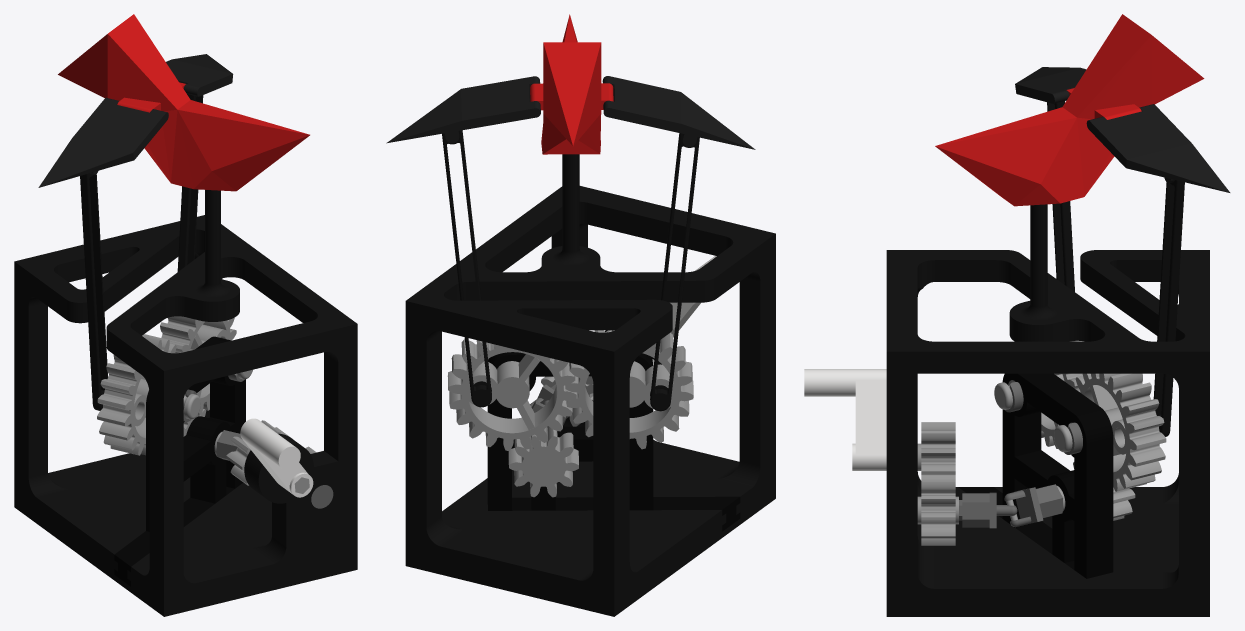
Rendered from Flying Bird Assembly.glb.
3 renders of one model, left to right at view 1: azimuth 30°, elevation 25°; view 2: azimuth 150°, elevation 25°; view 3: azimuth 270°, elevation 25°, orthographic. The views are drawn at different scales.
Visible parts, largest first — view 1: 343bca98-fe62-4026-8ab6-339ba9877d68, 2b105183-3d1b-42d4-afda-ca00019b0f54, 8965c5eb-5641-4157-947f-37365d0bd0ce, e5877eb3-8697-4037-bcf1-1f5ae645889e, mesh_18_instance_1, c8e5c120-d265-4057-b3ab-86ad7a617147, mesh_18_instance_0, 2da4cf43-8408-4855-a3ee-78072a0c3847, fb38368e-86fb-48f0-a276-a36f00fcf19f, fbb8fa94-902b-4c1b-acf7-82396a984117, f7f2728c-6061-43a3-9748-43435efcf5cf, 809f144c-1ab6-438e-9423-6b0897ab3f4a; view 2: 343bca98-fe62-4026-8ab6-339ba9877d68, 8965c5eb-5641-4157-947f-37365d0bd0ce, mesh_18_instance_0, 2b105183-3d1b-42d4-afda-ca00019b0f54, mesh_18_instance_1, 2da4cf43-8408-4855-a3ee-78072a0c3847, e5877eb3-8697-4037-bcf1-1f5ae645889e, b7e43795-aa19-44e4-a597-c1c2f88f8dda, c8e5c120-d265-4057-b3ab-86ad7a617147, fbb8fa94-902b-4c1b-acf7-82396a984117; view 3: 343bca98-fe62-4026-8ab6-339ba9877d68, 2b105183-3d1b-42d4-afda-ca00019b0f54, 8965c5eb-5641-4157-947f-37365d0bd0ce, mesh_18_instance_0, 2da4cf43-8408-4855-a3ee-78072a0c3847, fbb8fa94-902b-4c1b-acf7-82396a984117, fb38368e-86fb-48f0-a276-a36f00fcf19f, ba935576-6b27-4dd9-9e66-08a03e77cfe6, 809f144c-1ab6-438e-9423-6b0897ab3f4a, e5877eb3-8697-4037-bcf1-1f5ae645889e, c8e5c120-d265-4057-b3ab-86ad7a617147, 3b469005-7efd-4960-a3cb-0997be723ba8 (+4 smaller).
Part boxes in pixels (box(x1,y1,x2,y2)): 343bca98-fe62-4026-8ab6-339ba9877d68: box(14, 190, 357, 616); 2b105183-3d1b-42d4-afda-ca00019b0f54: box(58, 14, 309, 191); 8965c5eb-5641-4157-947f-37365d0bd0ce: box(114, 336, 245, 586); e5877eb3-8697-4037-bcf1-1f5ae645889e: box(38, 97, 168, 187); mesh_18_instance_1: box(97, 334, 200, 455); c8e5c120-d265-4057-b3ab-86ad7a617147: box(80, 173, 107, 410); mesh_18_instance_0: box(160, 316, 252, 415); 2da4cf43-8408-4855-a3ee-78072a0c3847: box(166, 54, 233, 96); fb38368e-86fb-48f0-a276-a36f00fcf19f: box(240, 418, 313, 497); fbb8fa94-902b-4c1b-acf7-82396a984117: box(177, 94, 203, 271); f7f2728c-6061-43a3-9748-43435efcf5cf: box(254, 429, 300, 470); 809f144c-1ab6-438e-9423-6b0897ab3f4a: box(226, 420, 309, 493); 343bca98-fe62-4026-8ab6-339ba9877d68: box(405, 154, 775, 616); 8965c5eb-5641-4157-947f-37365d0bd0ce: box(487, 352, 740, 531); mesh_18_instance_0: box(447, 339, 576, 450); 2b105183-3d1b-42d4-afda-ca00019b0f54: box(530, 14, 613, 154); mesh_18_instance_1: box(565, 330, 693, 449); 2da4cf43-8408-4855-a3ee-78072a0c3847: box(386, 76, 540, 143); e5877eb3-8697-4037-bcf1-1f5ae645889e: box(602, 76, 755, 149); b7e43795-aa19-44e4-a597-c1c2f88f8dda: box(508, 426, 578, 497); c8e5c120-d265-4057-b3ab-86ad7a617147: box(650, 133, 699, 411); fbb8fa94-902b-4c1b-acf7-82396a984117: box(442, 130, 491, 407); 343bca98-fe62-4026-8ab6-339ba9877d68: box(886, 204, 1209, 616); 2b105183-3d1b-42d4-afda-ca00019b0f54: box(935, 14, 1204, 206); 8965c5eb-5641-4157-947f-37365d0bd0ce: box(958, 373, 1113, 578); mesh_18_instance_0: box(1054, 373, 1166, 491); 2da4cf43-8408-4855-a3ee-78072a0c3847: box(1086, 104, 1230, 192); fbb8fa94-902b-4c1b-acf7-82396a984117: box(1153, 180, 1184, 436); fb38368e-86fb-48f0-a276-a36f00fcf19f: box(852, 369, 886, 470); ba935576-6b27-4dd9-9e66-08a03e77cfe6: box(917, 475, 958, 545); 809f144c-1ab6-438e-9423-6b0897ab3f4a: box(917, 422, 955, 475); e5877eb3-8697-4037-bcf1-1f5ae645889e: box(1015, 67, 1086, 103); c8e5c120-d265-4057-b3ab-86ad7a617147: box(1047, 101, 1074, 291); 3b469005-7efd-4960-a3cb-0997be723ba8: box(1004, 484, 1062, 527).
Size of the model in its own units: 0.1027 by 0.1882 by 0.1376.
